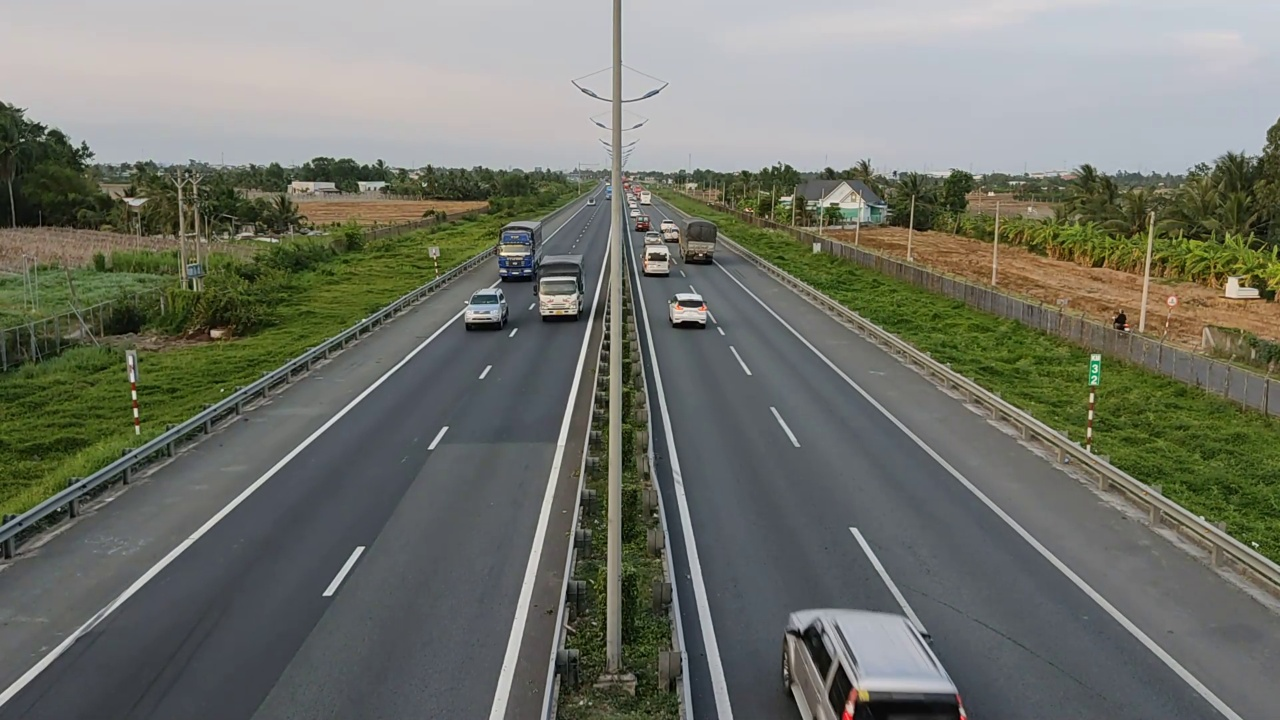car: (781, 607, 966, 719), (465, 287, 509, 330), (667, 291, 707, 328), (642, 240, 672, 276)
truck: (533, 256, 587, 323), (680, 218, 717, 263)
